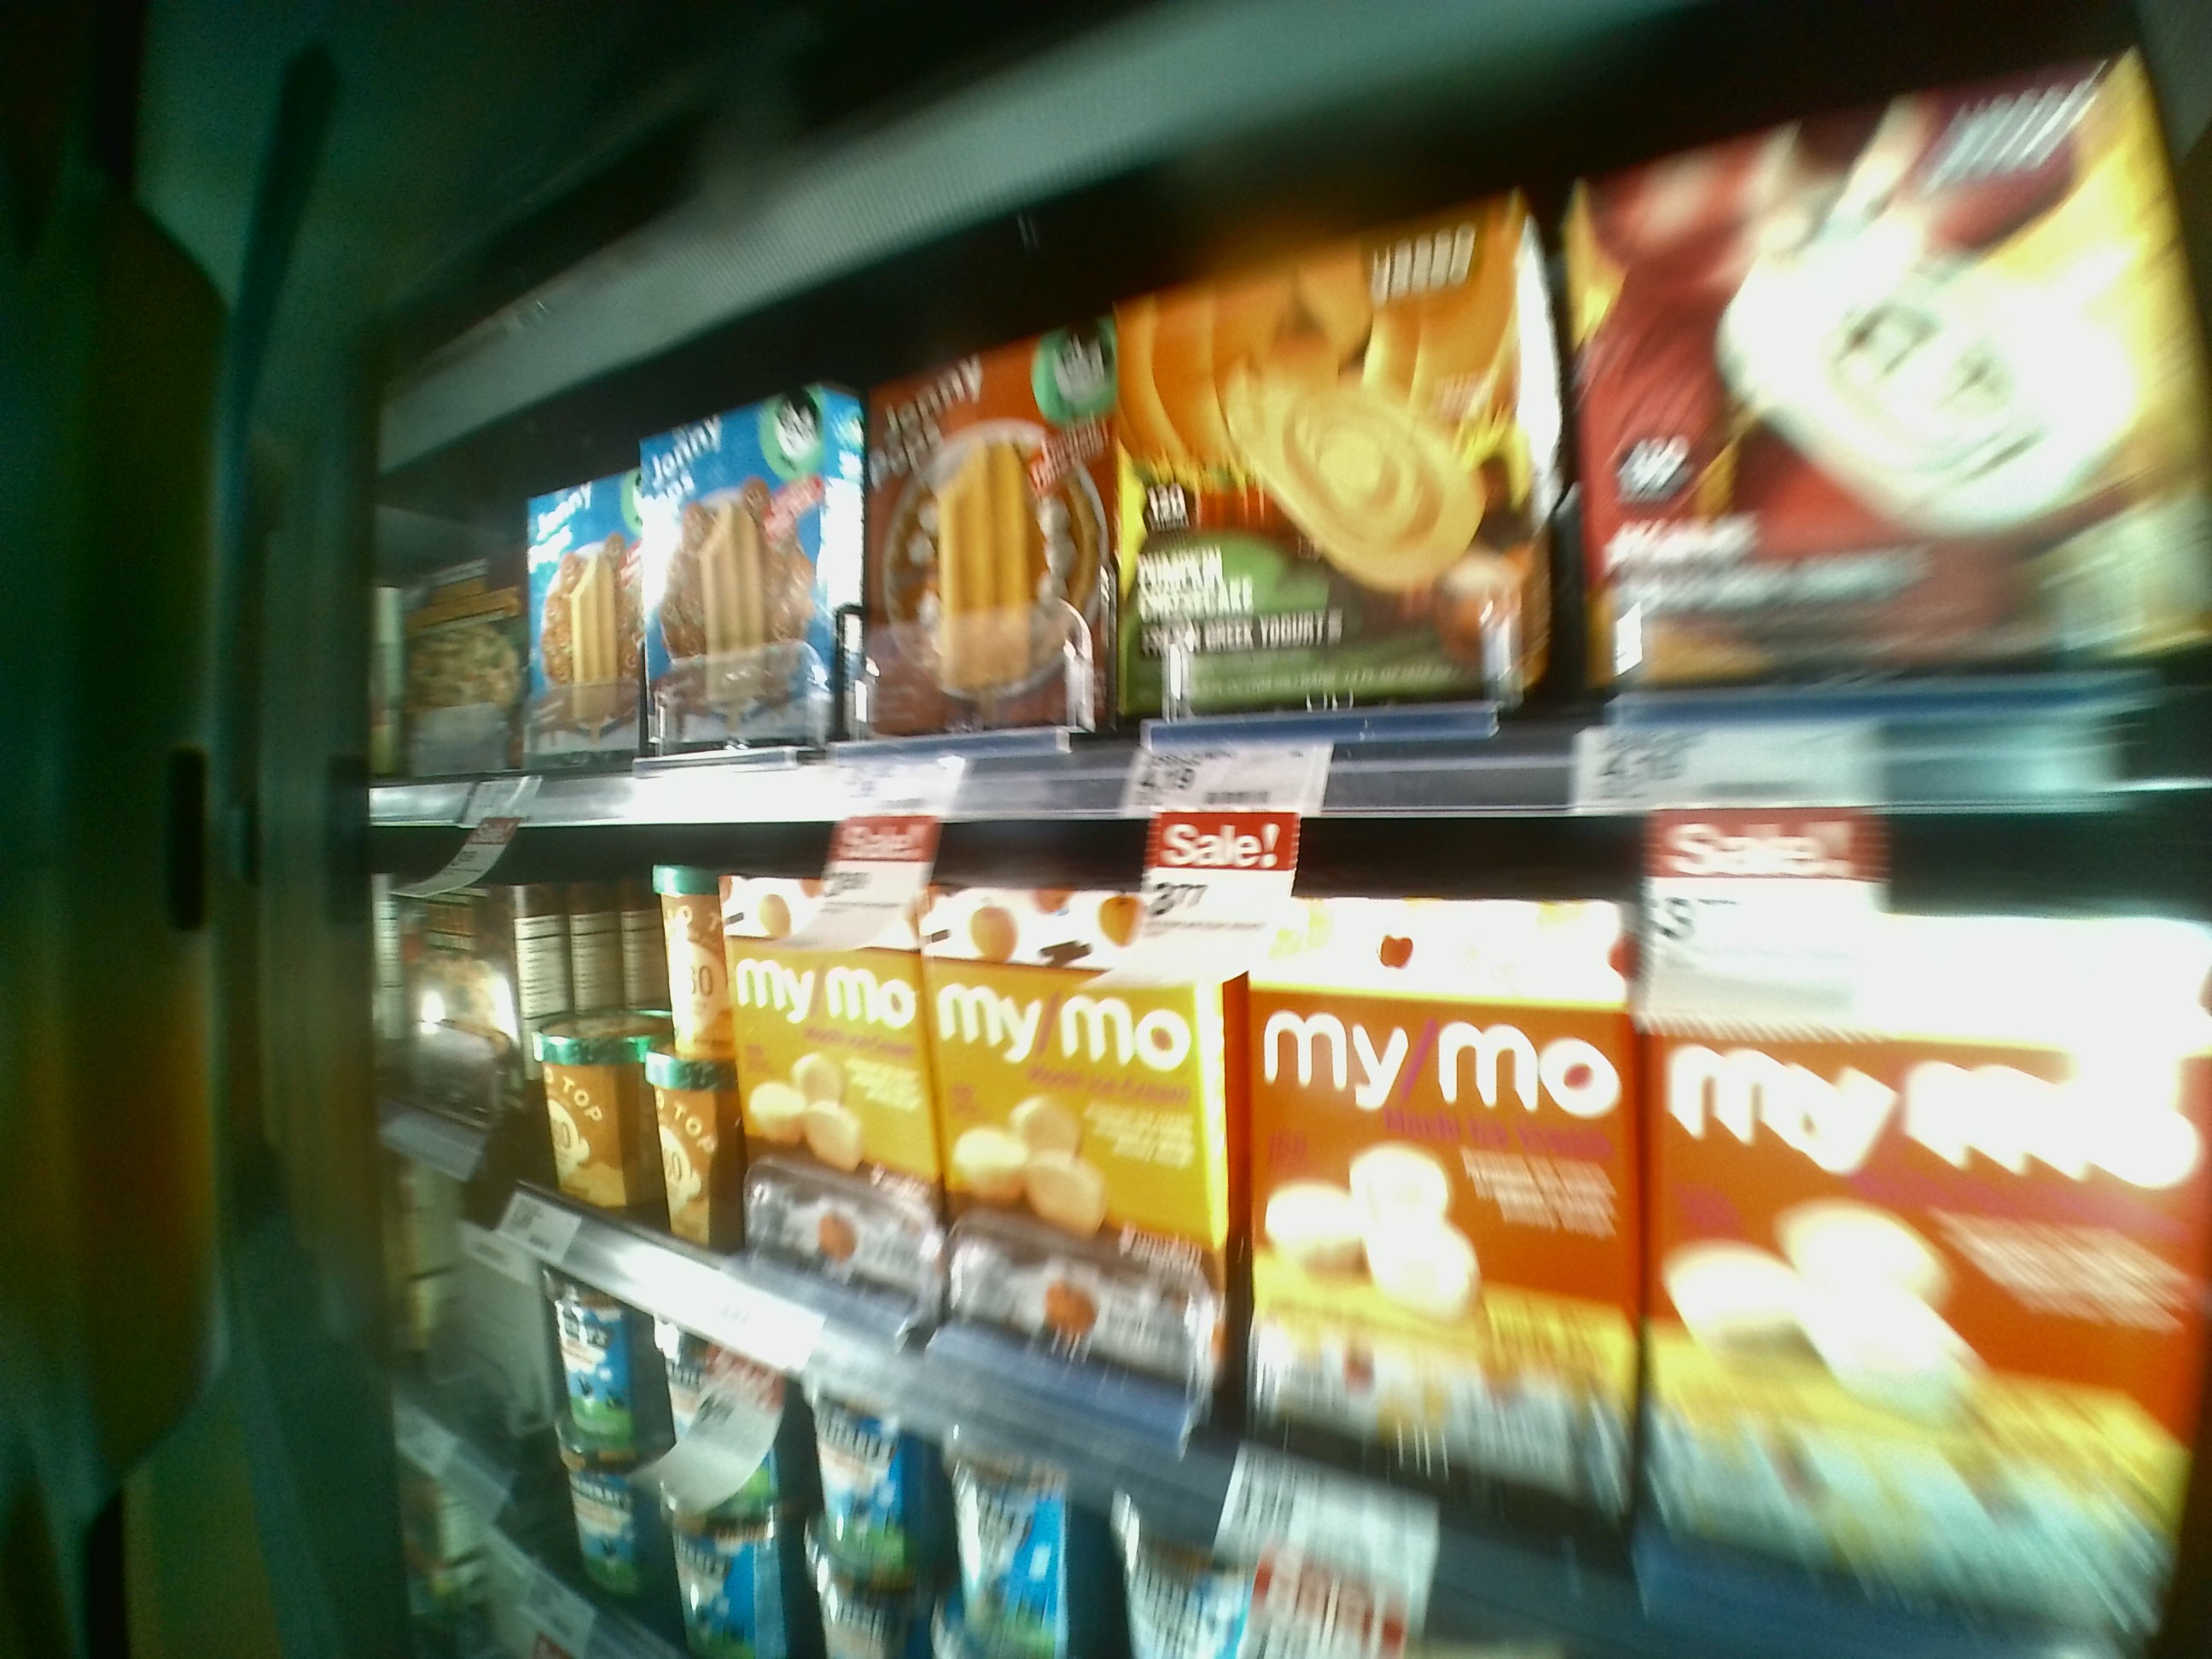shelf: (383, 769, 2167, 1650), (413, 282, 2212, 805)
